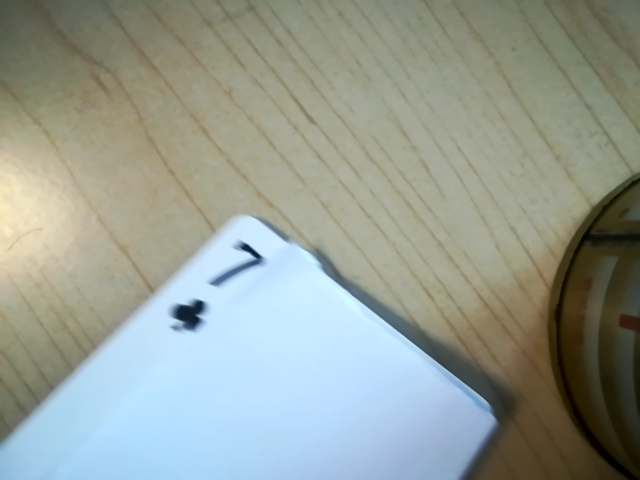mh 7: (152, 243, 273, 340)
